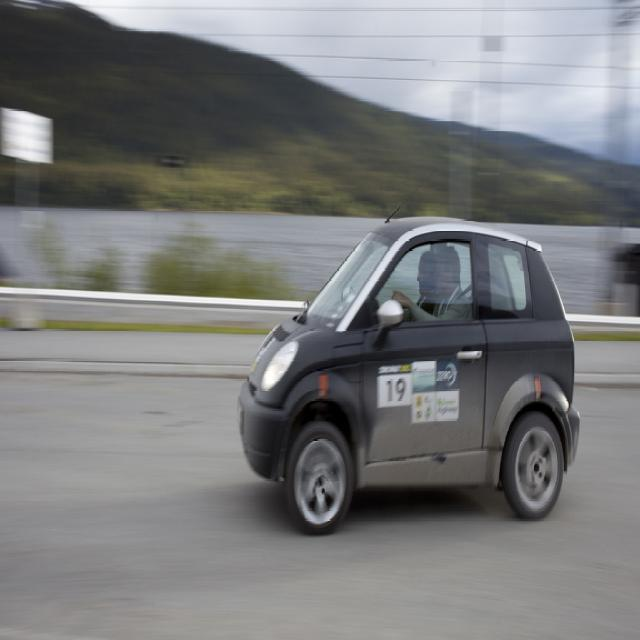car: (230, 206, 577, 522)
